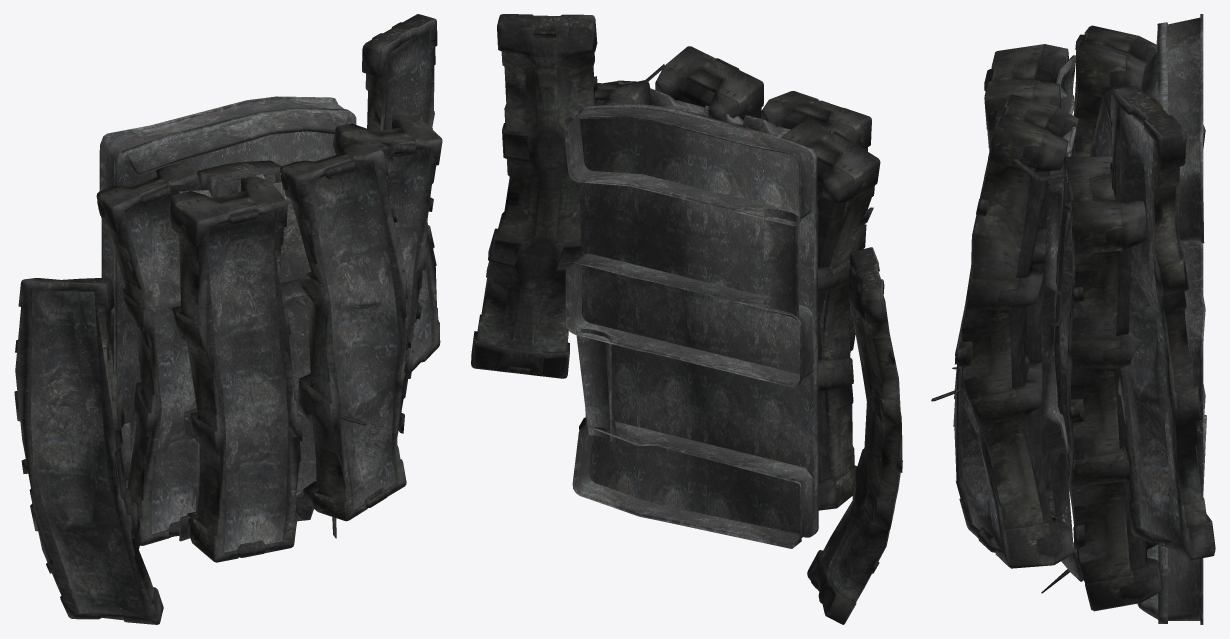
Rendered from p_glo_bomb_stack_d_LOD0.obj.
3 renders of one model, left to right at view 1: azimuth 30°, elevation 25°; view 2: azimuth 150°, elevation 25°; view 3: azimuth 270°, elevation 25°, orthographic. The views are drawn at different scales.
Parts seen in each view (by area): view 1: metal_charred, mtl_p_glo_bomb_stack_02; view 2: metal_charred, mtl_p_glo_bomb_stack_02; view 3: mtl_p_glo_bomb_stack_02, metal_charred.
Part boxes in pixels (box(x1,y1,x2,y2)): metal_charred: box(31, 31, 431, 617); mtl_p_glo_bomb_stack_02: box(14, 14, 442, 624); metal_charred: box(563, 88, 889, 548); mtl_p_glo_bomb_stack_02: box(471, 14, 902, 624); mtl_p_glo_bomb_stack_02: box(931, 25, 1215, 611); metal_charred: box(960, 14, 1206, 624).
Bounding box in the file's own units: 235 × 275 × 111.
